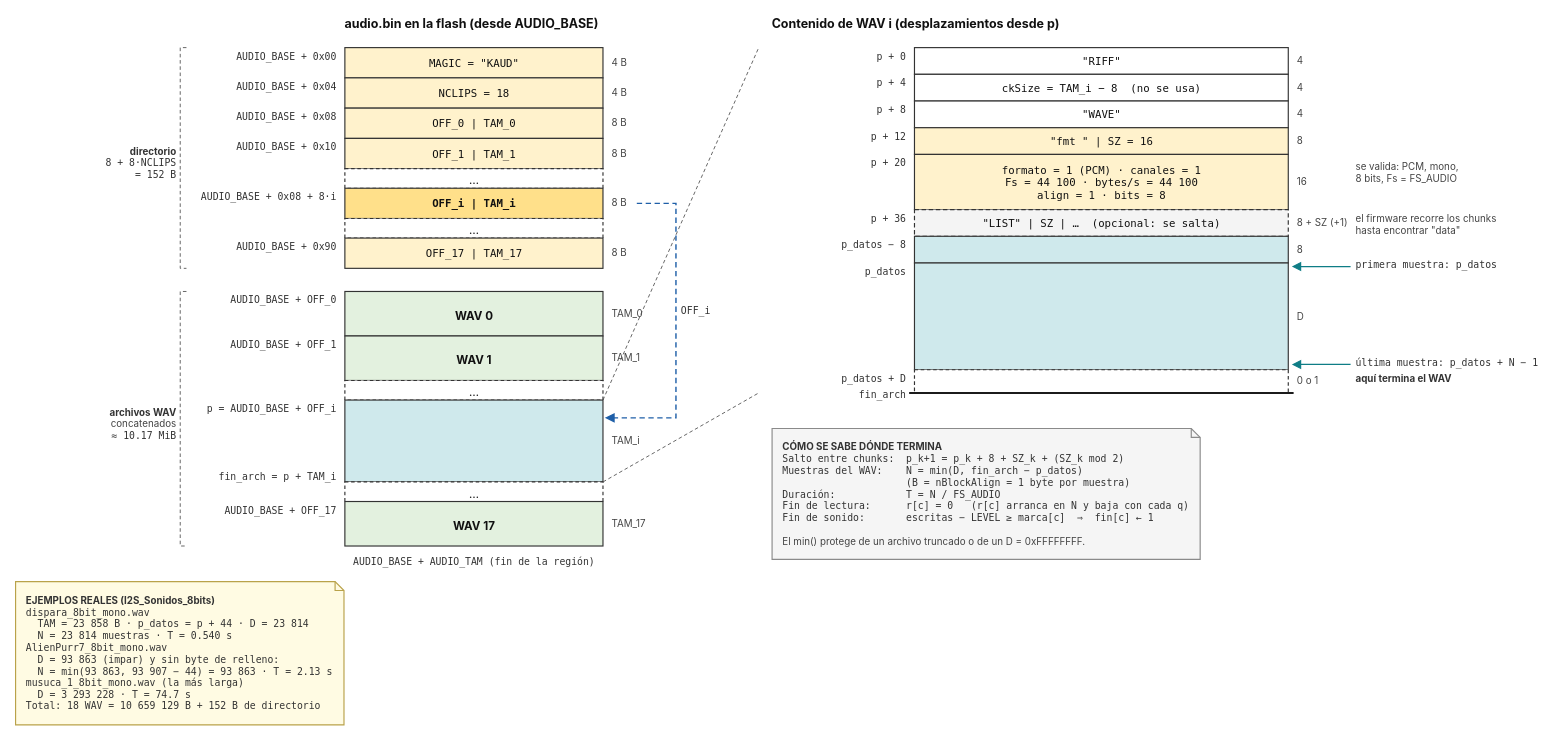
Some shapes in this 1554 by 740 pixel diagram are drawn without their labels. The box of each missing label's shape, as (x1, y1, x2, y2) in pixels:
"data" | D: (913, 235, 1288, 263)
muestras u8: u[0], u[1], …, u[N − 1] silencio = 0x80 · 1 byte por muestra: (913, 262, 1288, 370)
relleno: 1 byte si D es impar (puede faltar): (913, 369, 1288, 393)
WAV i (archivo WAV completo): (344, 399, 603, 482)
